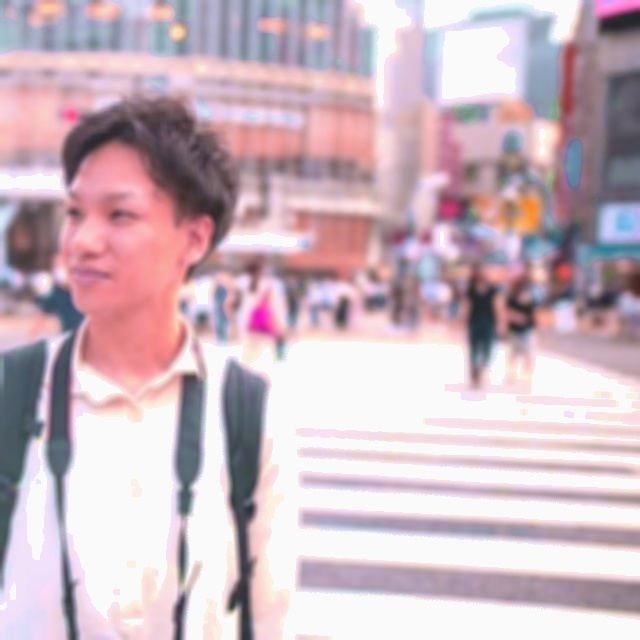Sin_Casco_Mascarrilla: (57, 96, 242, 315)
Sin_Chaleco: (0, 326, 282, 640)
